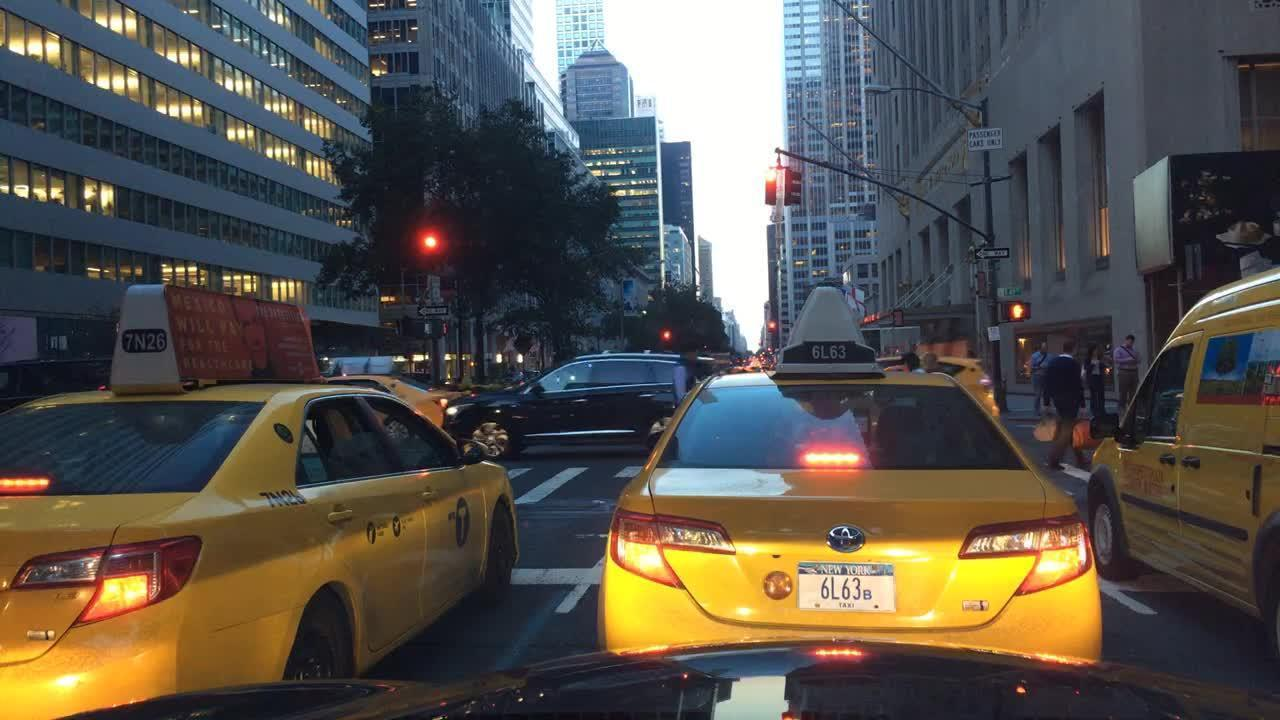Toyota: (808, 513, 875, 567)
